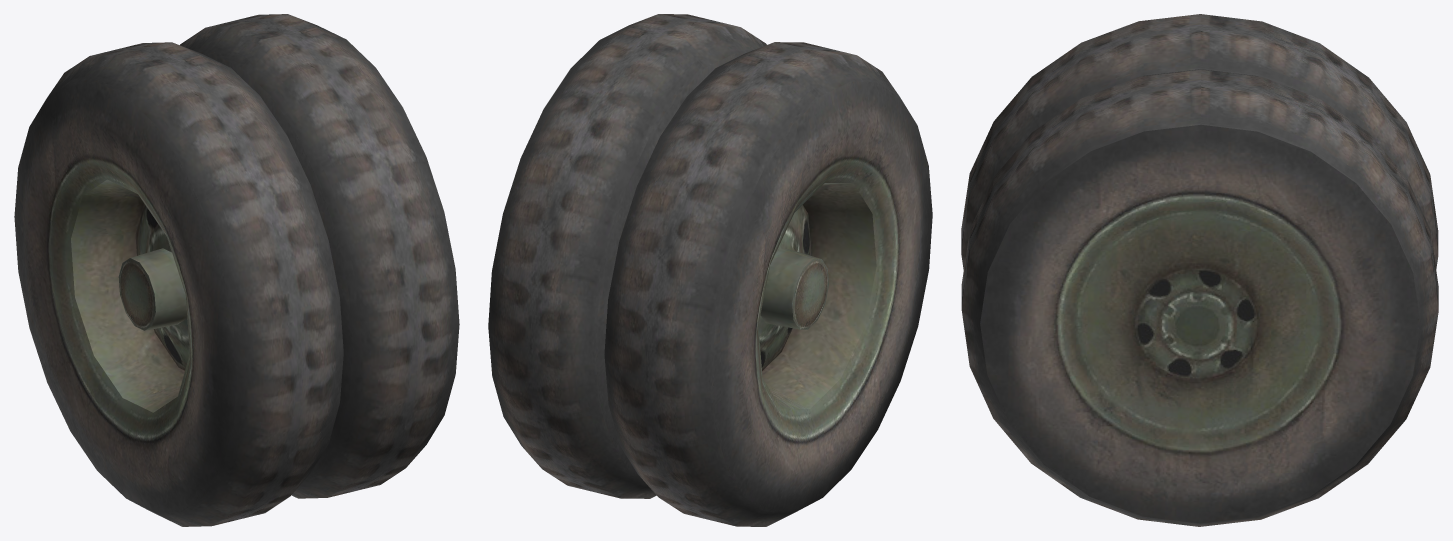
The model's file is rear_right_wheel.obj.
3 renders of one model, left to right at view 1: azimuth 30°, elevation 25°; view 2: azimuth 150°, elevation 25°; view 3: azimuth 270°, elevation 25°, orthographic. The views are drawn at different scales.
Visible parts, largest first — view 1: armytruck.004; view 2: armytruck.004; view 3: armytruck.004.
Part boxes in pixels (x1,y1,x2,y2): armytruck.004: [14, 14, 459, 526]; armytruck.004: [488, 14, 932, 526]; armytruck.004: [961, 14, 1438, 526].
Bounding box in the file's own units: 1.56 × 2.77 × 2.78.
1 material, 1 textured.
